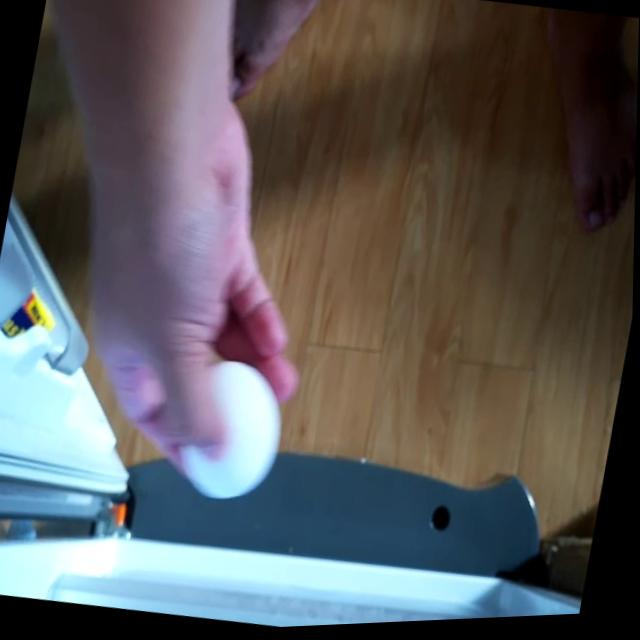egg: (172, 353, 296, 510)
